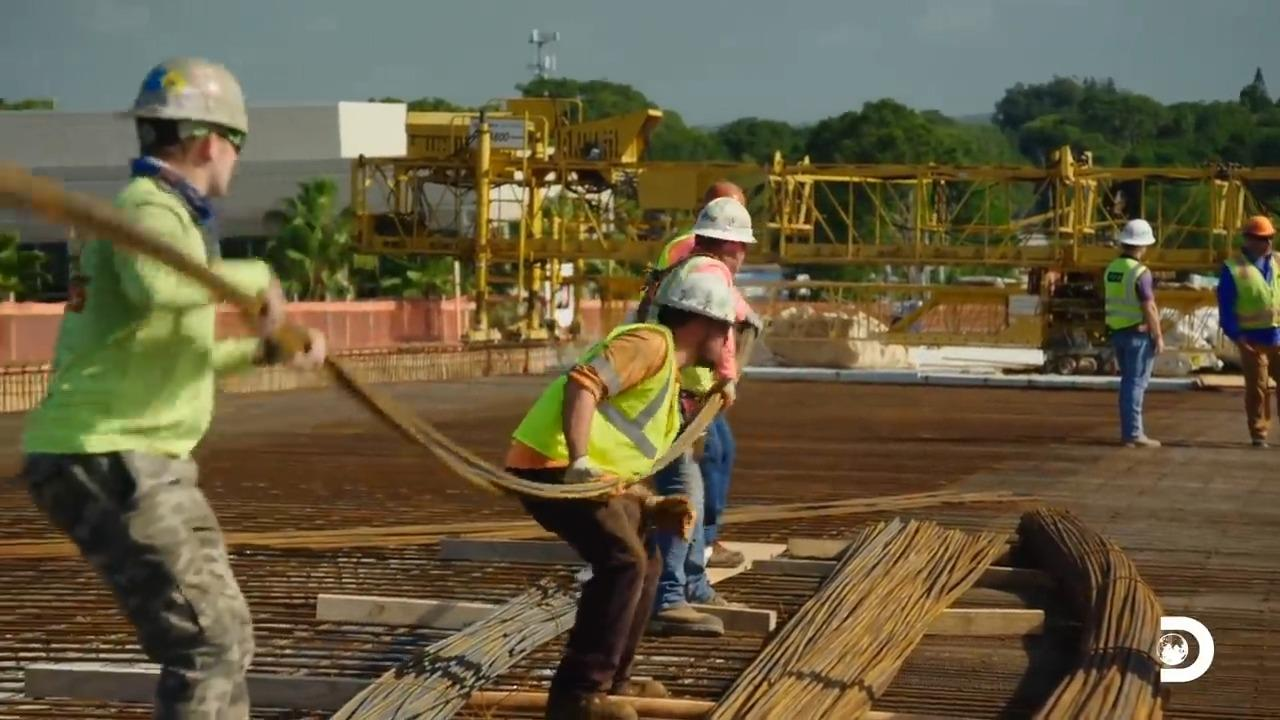Gloves: (708, 378, 741, 401)
Helmet: (129, 55, 249, 135), (644, 248, 745, 332), (691, 196, 757, 244), (1116, 218, 1156, 246), (1240, 215, 1275, 237)
Person: (18, 55, 327, 719), (502, 256, 740, 719), (637, 194, 762, 588), (1216, 215, 1279, 448), (1103, 218, 1165, 448)
Safety Boot: (648, 600, 723, 641), (546, 689, 638, 719), (1122, 433, 1158, 448)
Safety Vest: (63, 233, 218, 456), (540, 375, 666, 456), (1233, 261, 1280, 323), (1104, 271, 1142, 322)
bare-arms: (1151, 334, 1167, 353)
